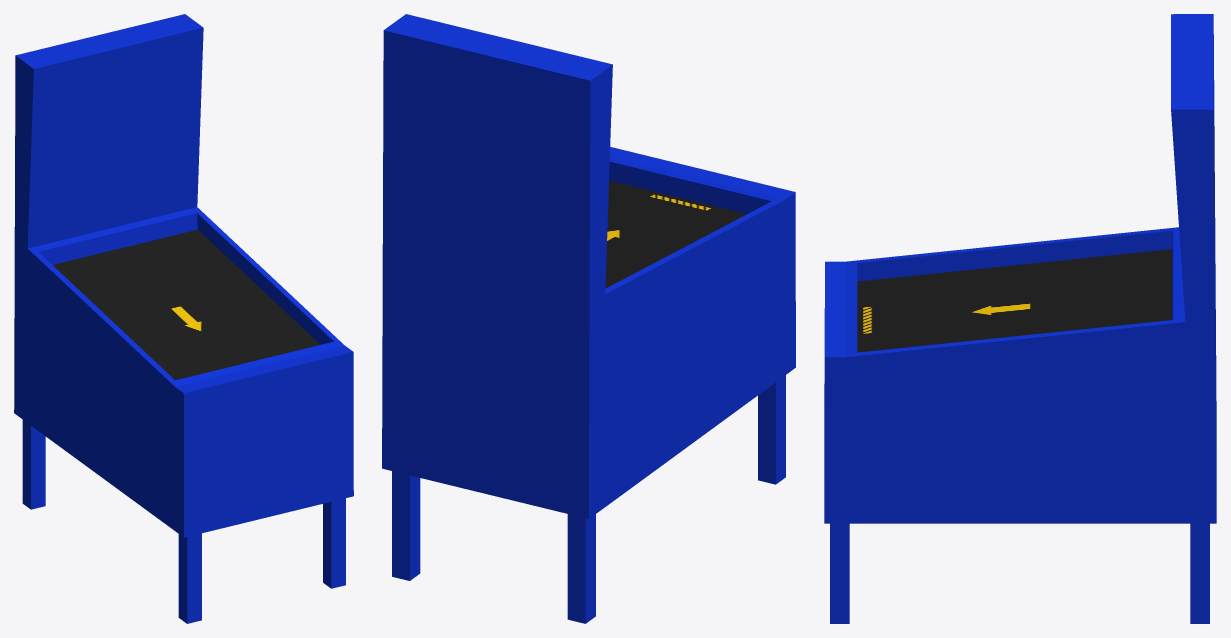
The model's file is pinball_field.fbx.
3 views of the same model, side by side, from view 1: azimuth 30°, elevation 25°; view 2: azimuth 150°, elevation 25°; view 3: azimuth 270°, elevation 25° (orthographic). The views are drawn at different scales.
Parts seen in each view (by area): view 1: Cube.002; view 2: Cube.002; view 3: Cube.002.
Part boxes in pixels (bbox=[...]): Cube.002: bbox=[14, 14, 353, 623]; Cube.002: bbox=[382, 14, 795, 623]; Cube.002: bbox=[824, 14, 1216, 623].
Size of the model in its own units: 201 by 509 by 350.
